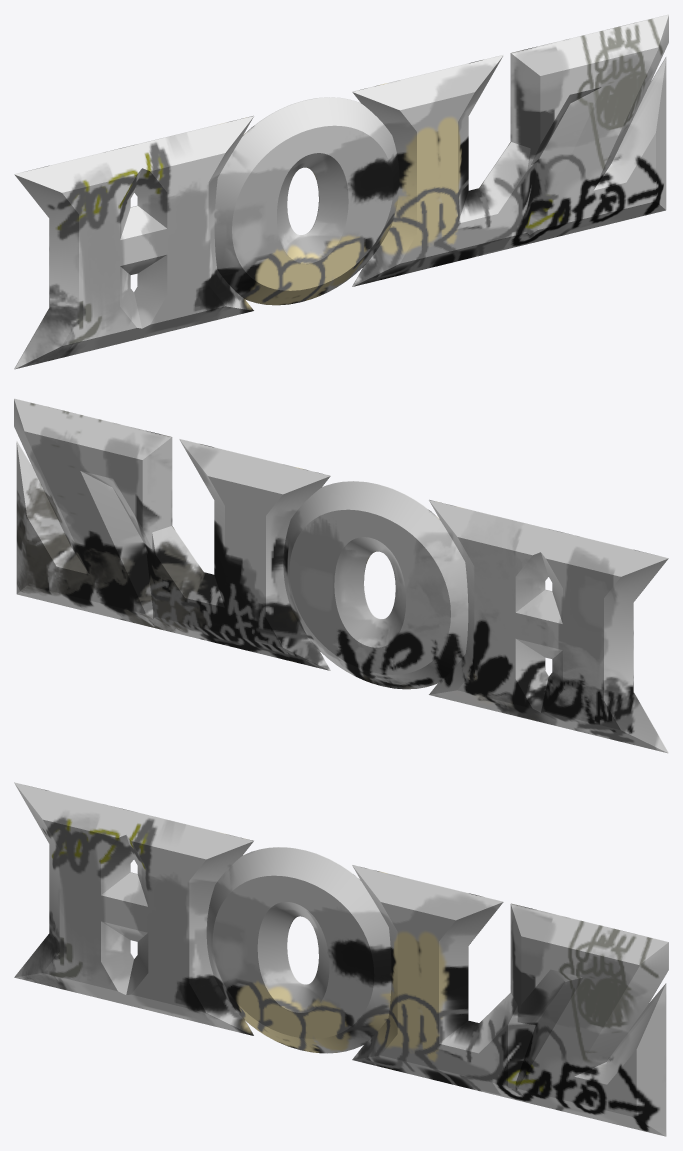
The model's file is Holz3D.glb.
3 views of the same model, one above another, from view 1: azimuth 30°, elevation 25°; view 2: azimuth 150°, elevation 25°; view 3: azimuth 330°, elevation 25° (orthographic).
Parts seen in each view (by area): view 1: Extrude; view 2: Extrude; view 3: Extrude.
Boxes of the visible parts, x1,y1,x2,y2 form: Extrude: [14, 14, 668, 369]; Extrude: [14, 398, 668, 753]; Extrude: [14, 782, 668, 1136].
Size of the model in its own units: 522 by 153 by 26.5.
Materials: 1 (1 with a texture image).
